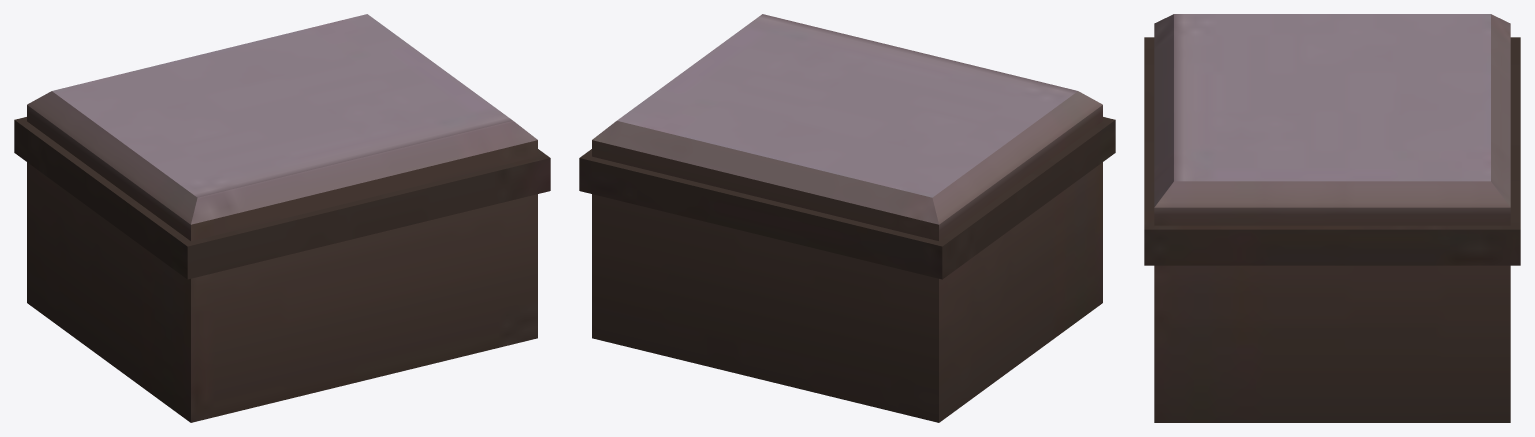
The model's file is steel-chest.glb.
3 views of the same model, side by side, from view 1: azimuth 30°, elevation 25°; view 2: azimuth 150°, elevation 25°; view 3: azimuth 270°, elevation 25° (orthographic). The views are drawn at different scales.
Visible parts, largest first — view 1: steel-chest; view 2: steel-chest; view 3: steel-chest.
Boxes of the visible parts, bbox=[...] form: steel-chest: bbox=[14, 14, 550, 422]; steel-chest: bbox=[579, 14, 1115, 422]; steel-chest: bbox=[1144, 14, 1520, 422].
Bounding box in the file's own units: 0.23 × 0.13 × 0.19.
1 material, 1 textured.
